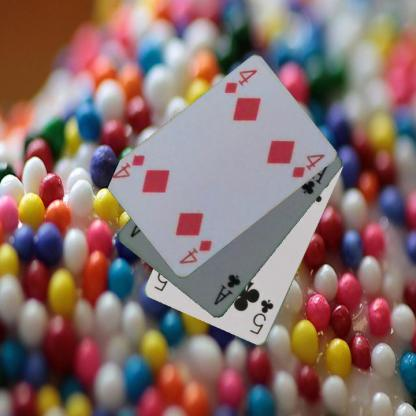4d: (221, 67, 259, 96), (176, 237, 213, 266)
5c: (247, 297, 275, 336)
Ac: (211, 272, 242, 306)
